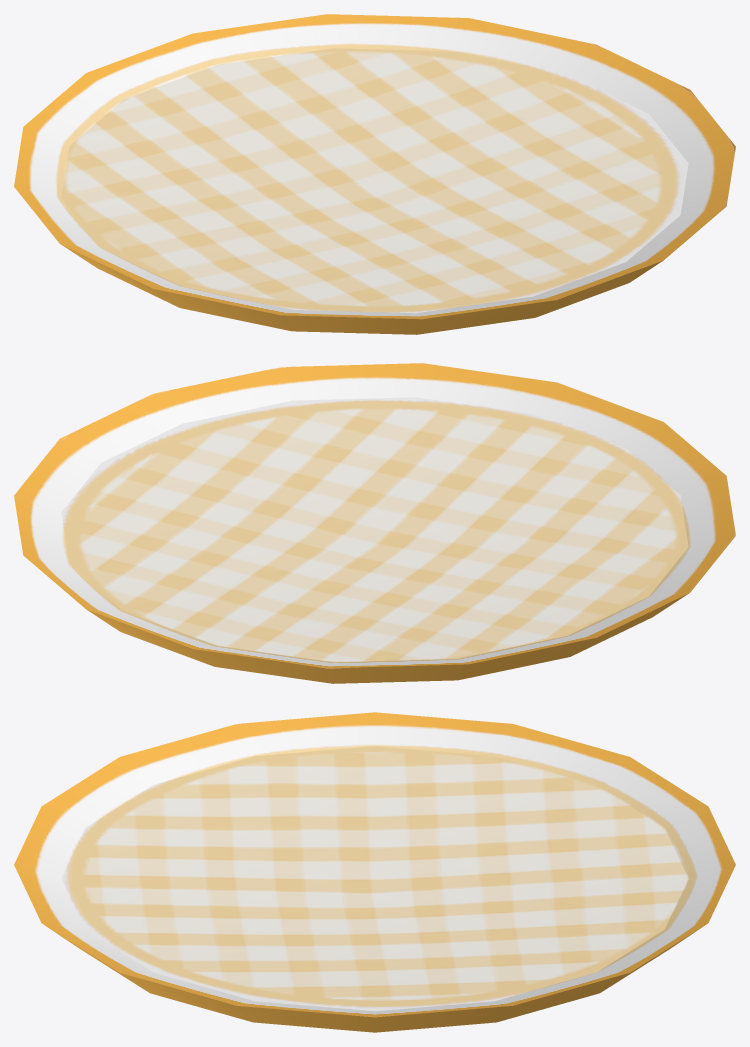
File: SM_Plate_Yellow.fbx
3 renders of one model, top to bottom at view 1: azimuth 30°, elevation 25°; view 2: azimuth 150°, elevation 25°; view 3: azimuth 270°, elevation 25°, orthographic.
Parts seen in each view (by area): view 1: Cylinder.002; view 2: Cylinder.002; view 3: Cylinder.002.
Boxes of the visible parts, x1,y1,x2,y2 form: Cylinder.002: (14, 14, 735, 334); Cylinder.002: (14, 363, 735, 683); Cylinder.002: (14, 712, 735, 1032).
Bounding box in the file's own units: 85.27 × 4.36 × 85.27.
